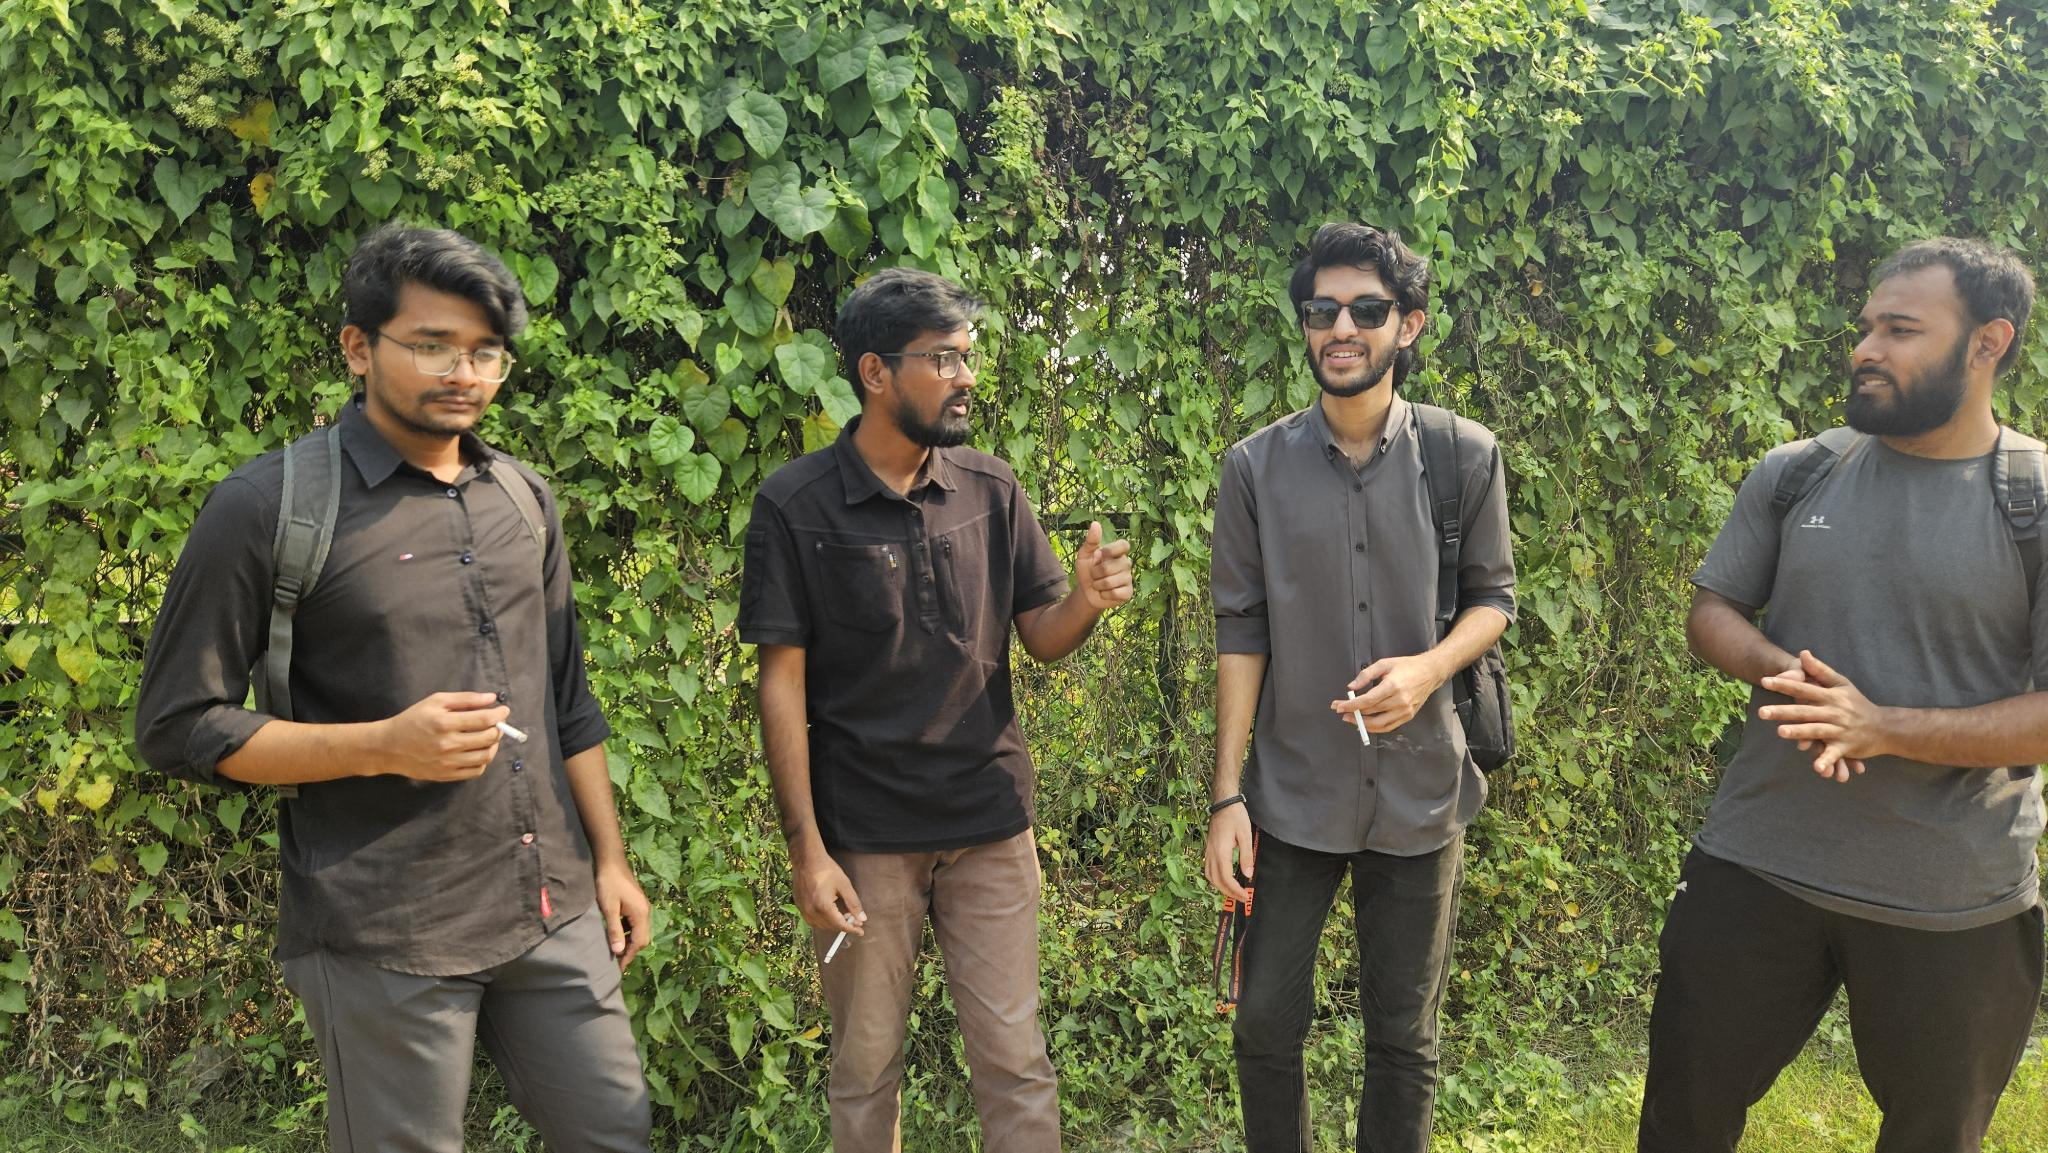cigarette: (823, 914, 857, 966), (1346, 689, 1371, 748), (495, 720, 529, 745)
nonSmoker: (1639, 235, 2048, 1153)
smoker: (134, 228, 653, 1153), (737, 267, 1132, 1153), (1204, 225, 1519, 1153)
